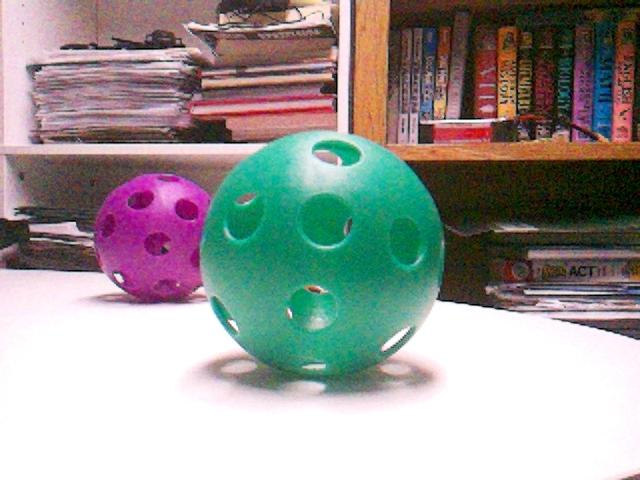Green: (198, 131, 440, 375)
Purple: (91, 173, 211, 301)
